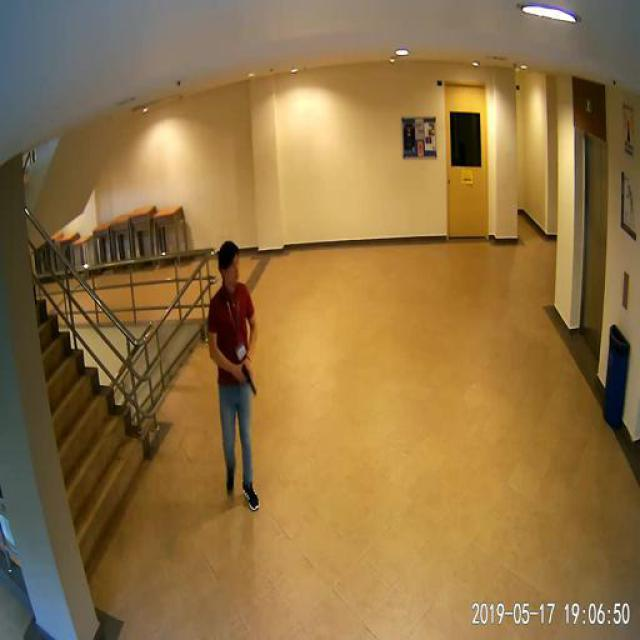Gun: (238, 362, 254, 393)
